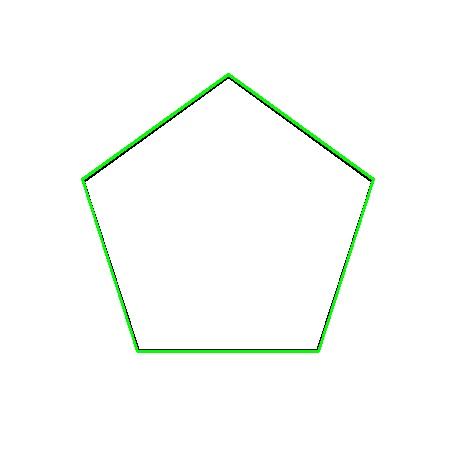line_segment: (81, 74, 374, 353)
